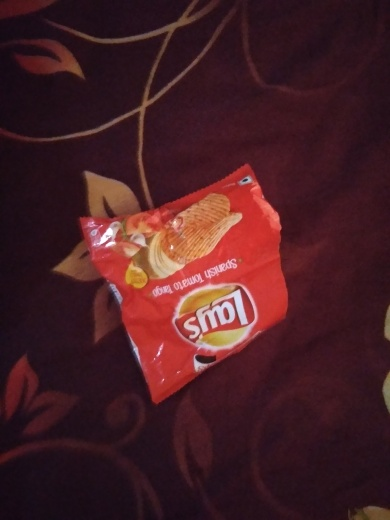lays: (58, 169, 324, 400)
